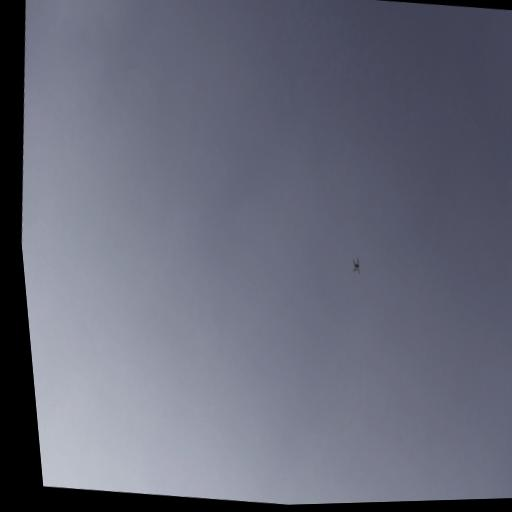drones: (350, 255, 364, 276)
